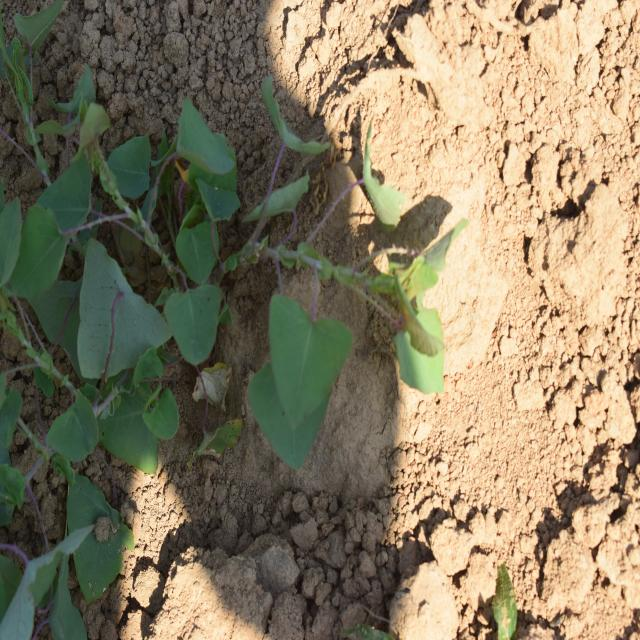Asiatic_Smartweed: (243, 106, 450, 454), (1, 151, 175, 472), (145, 90, 241, 392)
